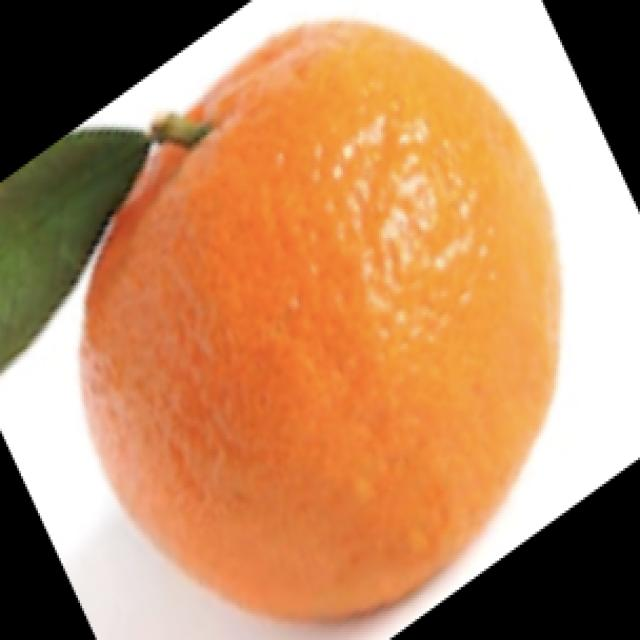matang: (85, 30, 560, 618)
